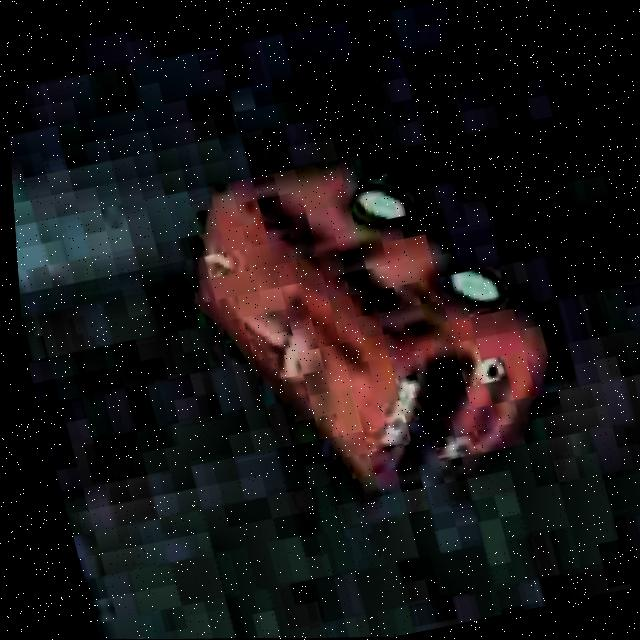bus: (147, 110, 597, 530)
